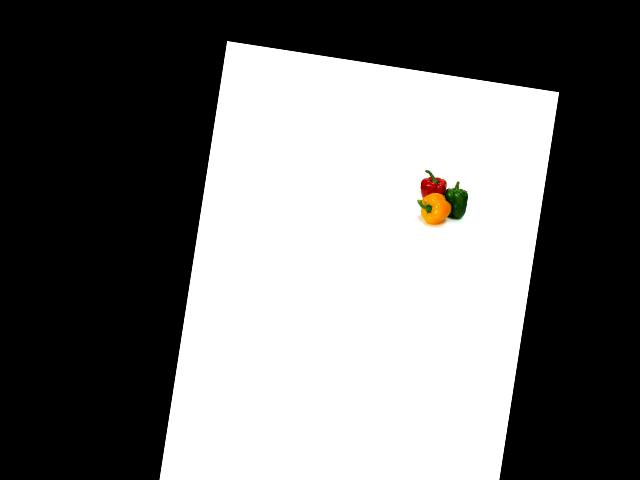bell_pepper: (413, 165, 452, 205)
